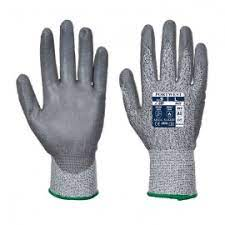gloves: (11, 16, 121, 213), (117, 14, 219, 207)
